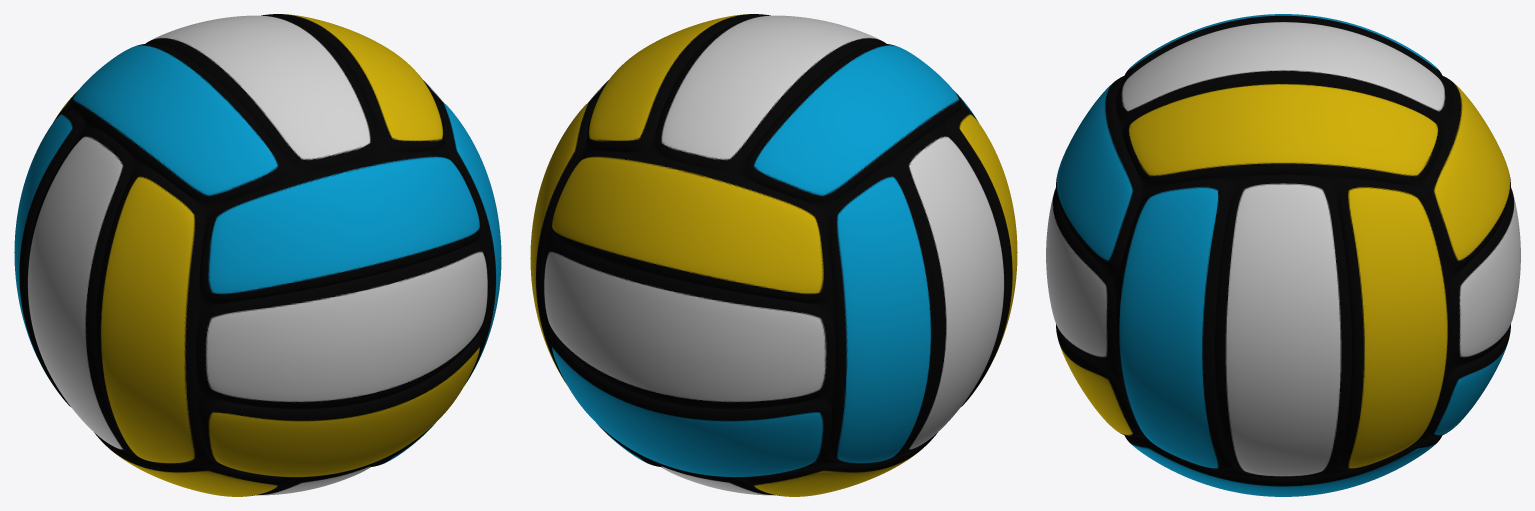
The model's file is 3d_free_volley_ball_game_asset_pbr_texture_model.glb.
3 renders of one model, left to right at view 1: azimuth 30°, elevation 25°; view 2: azimuth 150°, elevation 25°; view 3: azimuth 270°, elevation 25°, orthographic.
Parts seen in each view (by area): view 1: volley ball; view 2: volley ball; view 3: volley ball.
Part boxes in pixels (x1=…): volley ball: x1=14, y1=14, x2=501, y2=496; volley ball: x1=530, y1=14, x2=1017, y2=496; volley ball: x1=1046, y1=14, x2=1520, y2=496.
Bounding box in the file's own units: 0.285 × 0.285 × 0.285.
Materials: 1 (1 with a texture image).
